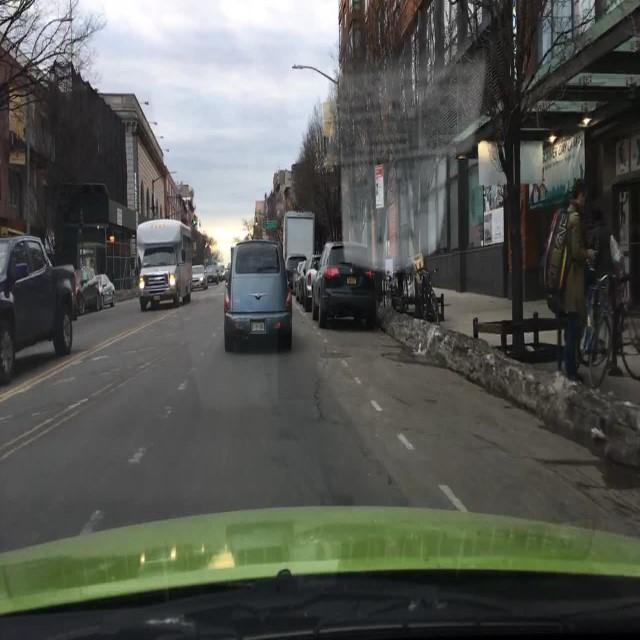normal: (0, 232, 79, 385), (222, 240, 292, 353), (310, 239, 386, 330), (136, 215, 193, 307), (93, 273, 114, 308), (190, 265, 206, 289)
